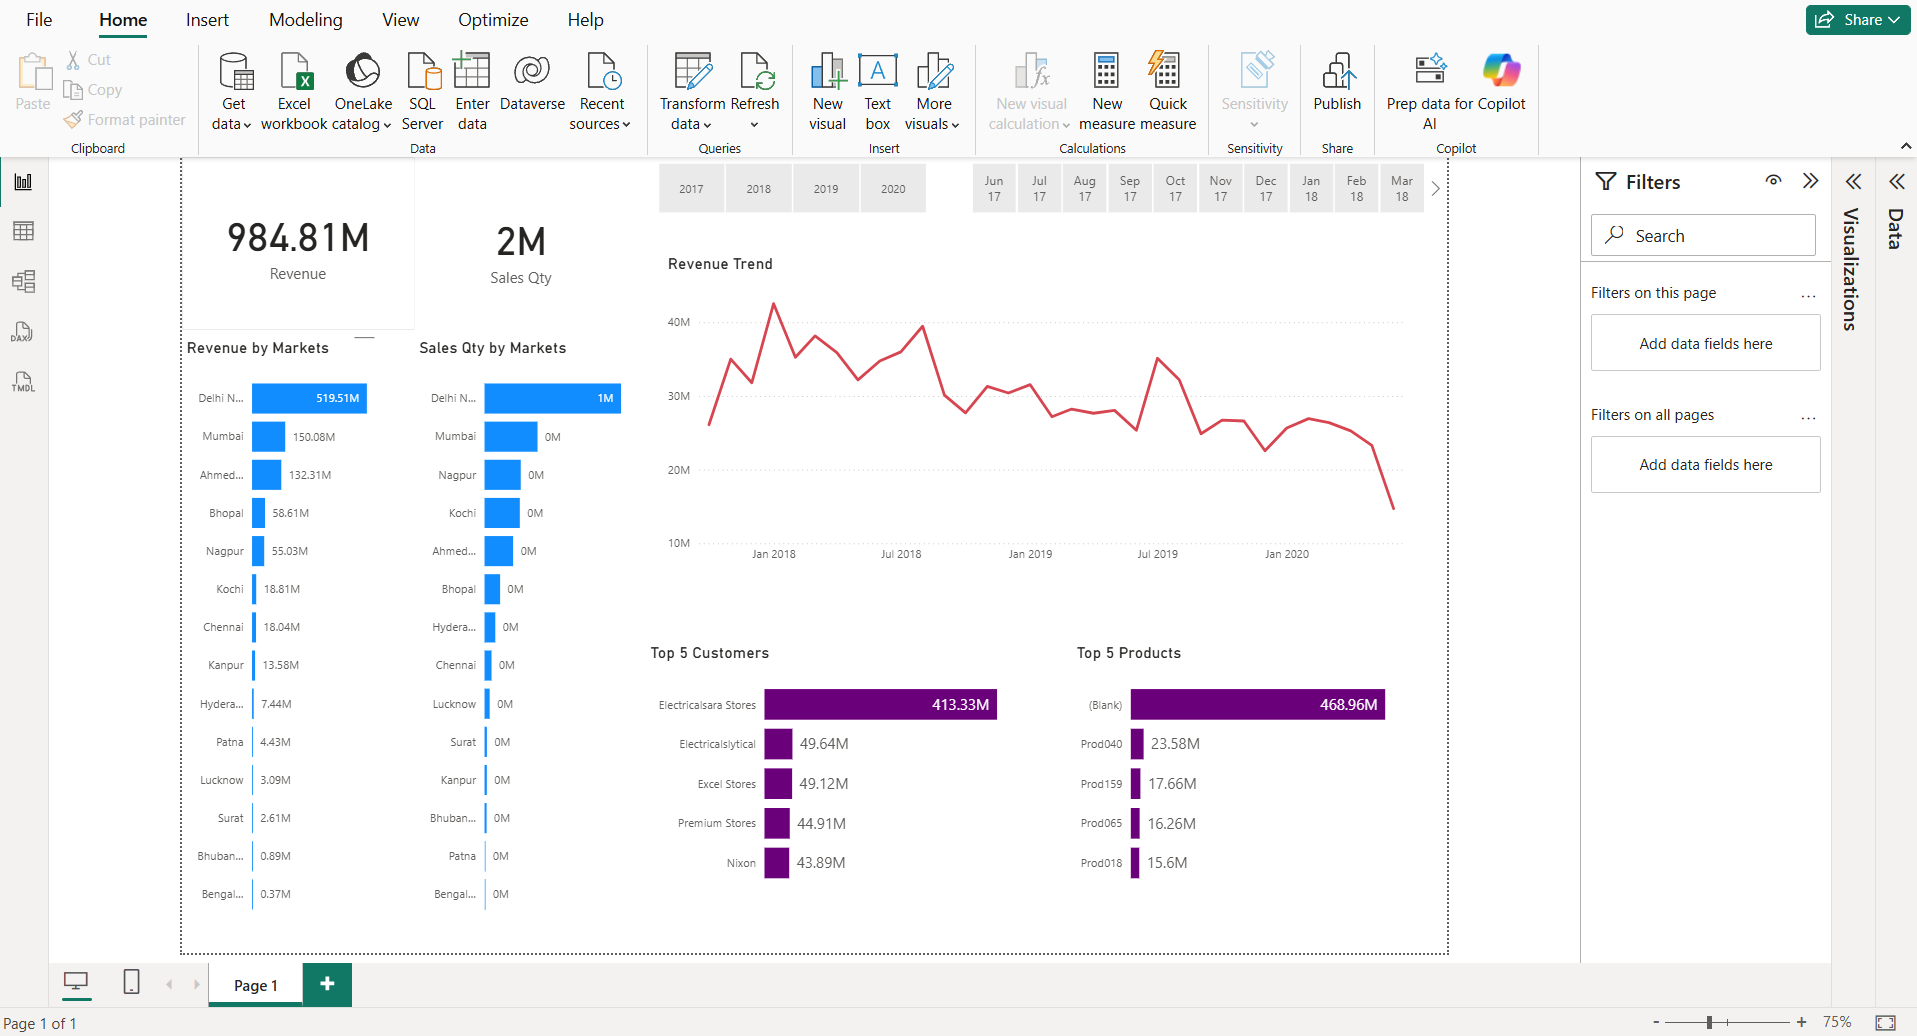

What the dashboard file says about the page in this screenshot:
{"tool":"powerbi","page":{"name":"Page 1","canvas":[1350,850],"ordinal":0},"visuals":[{"type":"card","fields":{"Values":["BaseMeasures (2).Revenue"]},"box":[0,0,247.9,184.6],"z":0},{"type":"card","fields":{"Values":["BaseMeasures (2).Sales Qty"]},"box":[247.9,0,227.9,193.1],"z":1000},{"type":"barChart","title":"Revenue by Markets","fields":{"Y":["BaseMeasures (2).Revenue"],"Category":["sales markets.markets_name"]},"box":[0,193.1,247.9,631.9],"z":2000},{"type":"barChart","title":"Sales Qty by Markets","fields":{"Y":["BaseMeasures (2).Sales Qty"],"Category":["sales markets.markets_name"]},"box":[247.9,193.1,247.9,631.9],"z":3000},{"type":"slicer","fields":{"Values":["sales date.year"]},"box":[483.2,0,335.5,66.5],"z":4000},{"type":"slicer","fields":{"Values":["sales date.cy_date"]},"box":[818.6,0,531.7,66.5],"z":5000},{"type":"barChart","title":"Top 5 Customers","fields":{"Y":["BaseMeasures (2).Revenue"],"Category":["sales customers.custmer_name"]},"box":[495.8,519,446.2,274.3],"z":6000},{"type":"barChart","title":"Top 5 Products","fields":{"Y":["BaseMeasures (2).Revenue"],"Category":["sales products.product_code"]},"box":[950.5,519,399.8,274.3],"z":7000},{"type":"lineChart","title":"Revenue Trend","fields":{"Y":["BaseMeasures (2).Revenue"],"Category":["sales date.cy_date"]},"box":[513.8,104.4,809.1,338.6],"z":8000}]}

Visuals, with their boxes on the page's 1350x850 design canvas (x1, y1, x2, y2). These are canvas units, not pixel positions in the 1917x1036 screenshot, which may show the page scaled, cropped or inside an application window:
card - BaseMeasures (2).Revenue: <region>0, 0, 248, 185</region>
card - BaseMeasures (2).Sales Qty: <region>248, 0, 476, 193</region>
"Revenue by Markets" barChart: <region>0, 193, 248, 825</region>
"Sales Qty by Markets" barChart: <region>248, 193, 496, 825</region>
slicer - sales date.year: <region>483, 0, 819, 66</region>
slicer - sales date.cy_date: <region>819, 0, 1350, 66</region>
"Top 5 Customers" barChart: <region>496, 519, 942, 793</region>
"Top 5 Products" barChart: <region>950, 519, 1350, 793</region>
"Revenue Trend" lineChart: <region>514, 104, 1323, 443</region>
